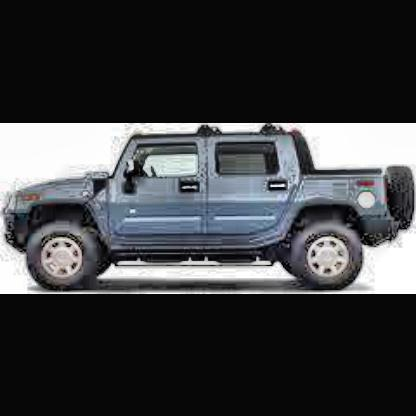HUMMER H2 SUT Crew Cab 2009: (2, 125, 416, 294)
